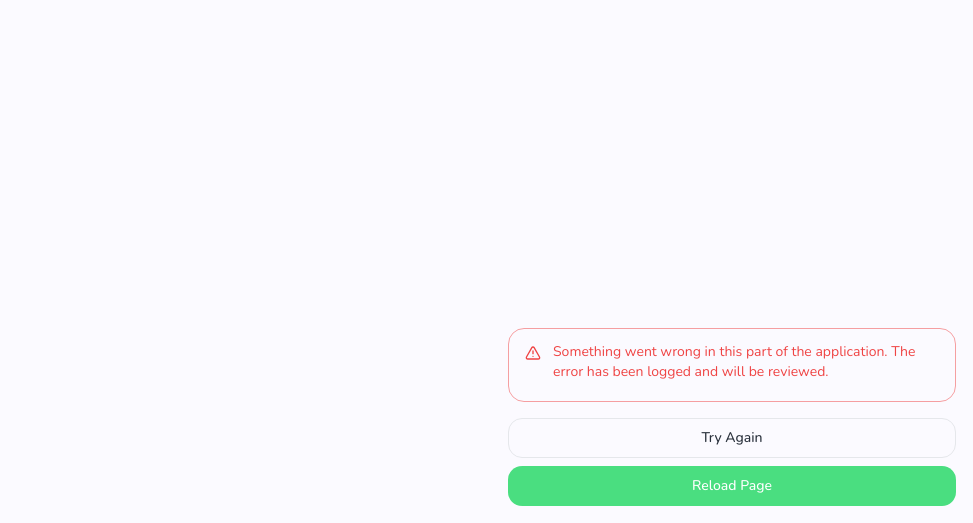
ErrorBoundary › Reset and Reload Behavior › handleReset clears error state
Expected: the text "Something went wrong" is shown, [553, 342, 915, 381]
Click the button "Try Again": (732, 438) [508, 418, 956, 458]
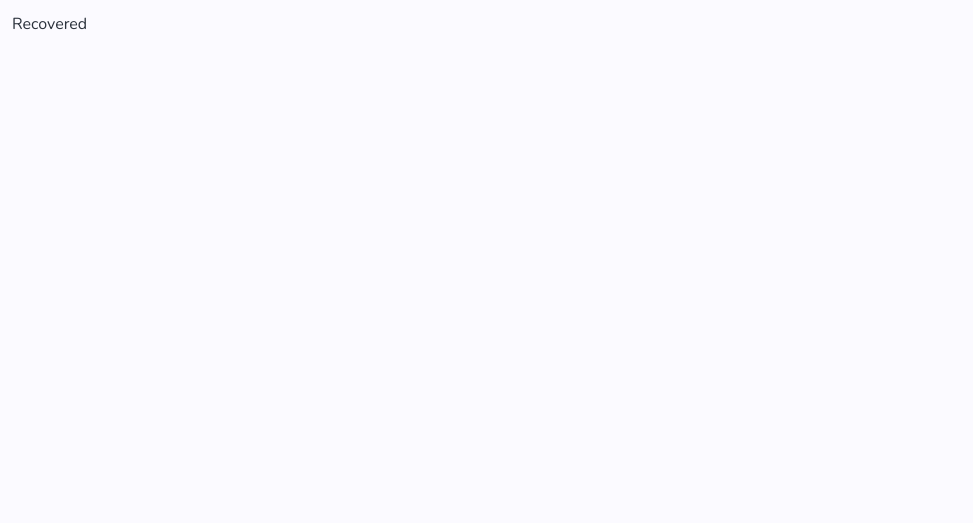
Expected: the text "Recovered" is shown, [12, 13, 87, 35]
